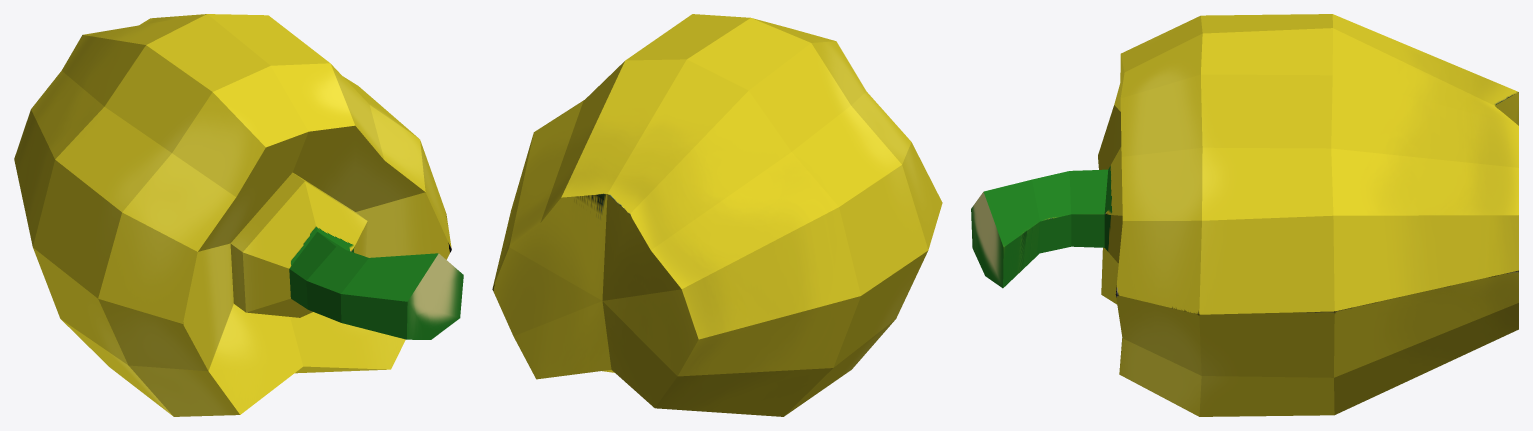
Rendered from YellowPepper_ani.fbx.
3 views of the same model, side by side, from view 1: azimuth 30°, elevation 25°; view 2: azimuth 150°, elevation 25°; view 3: azimuth 270°, elevation 25° (orthographic). The views are drawn at different scales.
Visible parts, largest first — view 1: Sphere.001; view 2: Sphere.001; view 3: Sphere.001.
Boxes of the visible parts, box(x1,y1,x2,y2) form: Sphere.001: box(14, 14, 463, 416); Sphere.001: box(492, 14, 942, 416); Sphere.001: box(971, 14, 1518, 416).
Bounding box in the file's own units: 195 × 177 × 258.
1 material, 1 textured.
